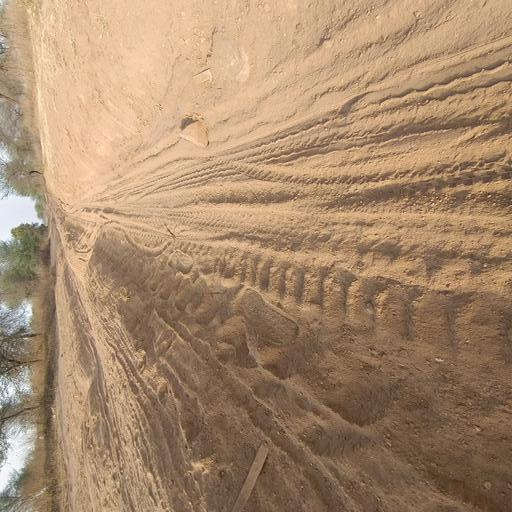vehicle_track: (76, 0, 512, 379)
